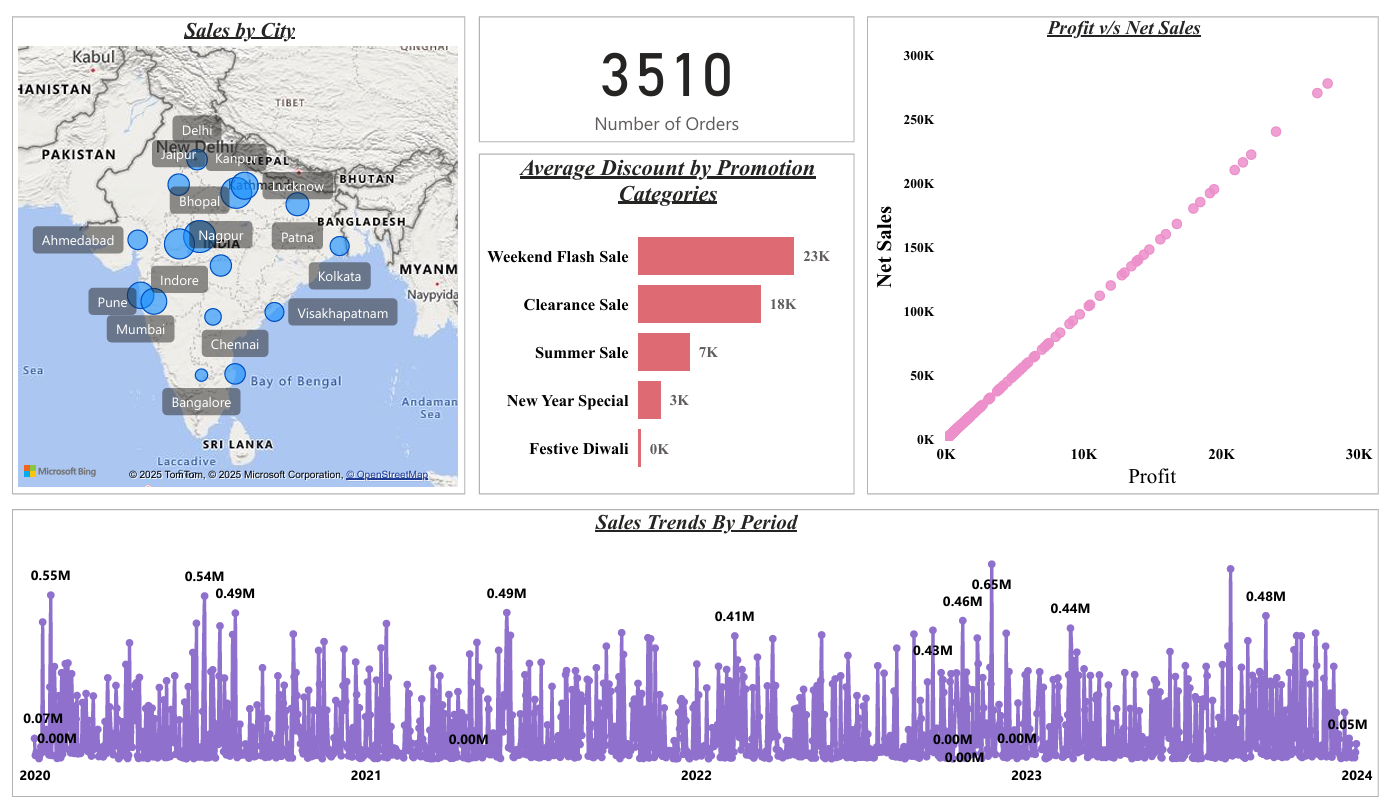

This screenshot's page, from the dashboard's own definition file:
{"tool":"powerbi","page":{"name":"Overview","canvas":[1280,720],"ordinal":0},"visuals":[{"type":"lineChart","title":"Sales Trends By Period","fields":{"Y":["Sum(Fact Table.Net Sales  )"],"Category":["Fact Table.Date (dd/mm/yyyy).Variation.Date Hierarchy.Year"]},"box":[31.6,448.7,1215.8,256.6],"z":0},{"type":"scatterChart","title":"Profit v/s Net Sales  ","fields":{"X":["Fact Table.Profit"],"Y":["Fact Table.Net Sales  "]},"box":[791.8,11,455.6,425.4],"z":1000},{"type":"barChart","title":"Average Discount by Promotion Categories","fields":{"Y":["Avg(Fact Table.Discount)"],"Category":["Dim Promotion.Promotion Name"]},"box":[447.3,133.1,333.4,303.3],"z":2000},{"type":"map","title":"Sales by City","fields":{"Category":["Dim Customers.City"],"Size":["Sum(Fact Table.Net Sales  )"]},"box":[31.6,11,403.4,425.4],"z":3000},{"type":"card","fields":{"Values":["Count(Fact Table.Order ID)"]},"box":[447.3,11,333.4,112.5],"z":4000}]}

Visuals, with their boxes in screenshot pixels (x1, y1, x2, y2), scaled from the page's 1280x720 canvas onto the 1396x801 screenshot:
"Sales Trends By Period" lineChart: BBox(34, 499, 1360, 785)
"Profit v/s Net Sales  " scatterChart: BBox(864, 12, 1360, 485)
"Average Discount by Promotion Categories" barChart: BBox(488, 148, 851, 485)
"Sales by City" map: BBox(34, 12, 474, 485)
card - Count(Fact Table.Order ID): BBox(488, 12, 851, 137)
